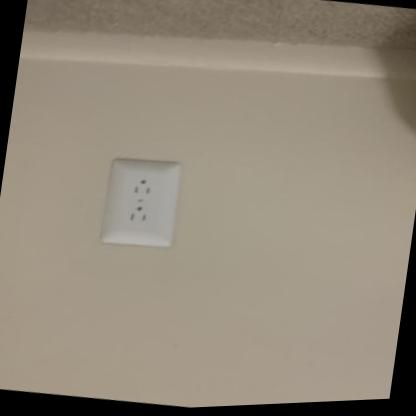OUTLET: (100, 153, 182, 252)
